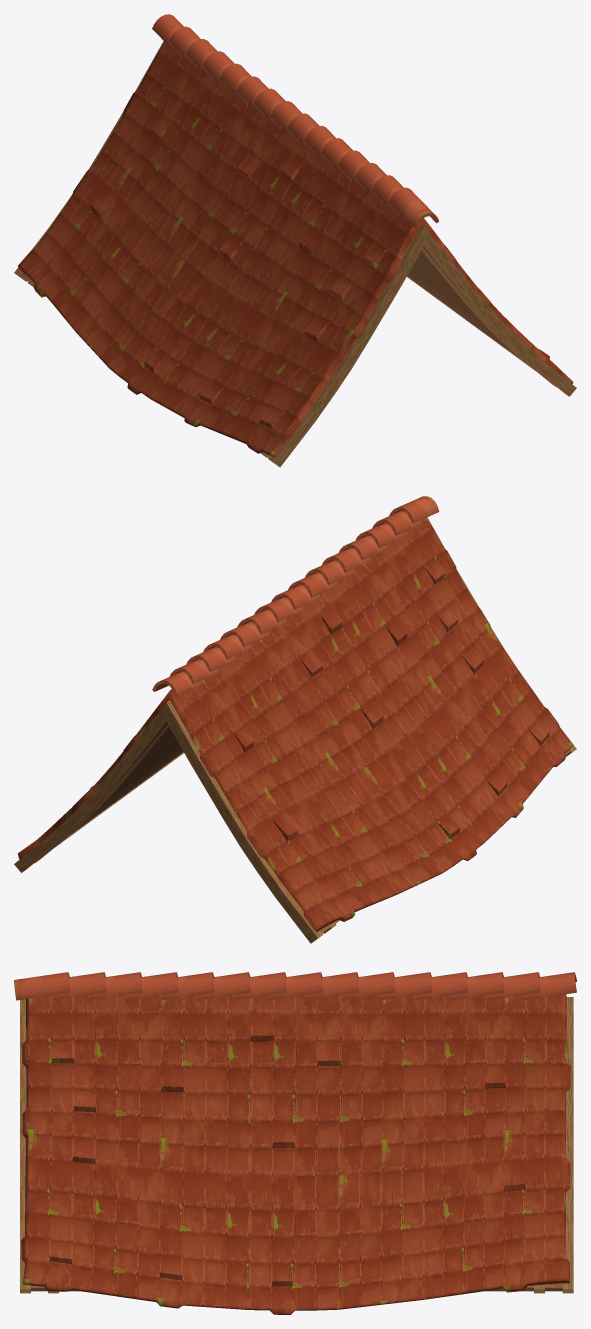
Rendered from Roof_FlatTiles_6x10.gltf.
3 renders of one model, top to bottom at view 1: azimuth 30°, elevation 25°; view 2: azimuth 150°, elevation 25°; view 3: azimuth 270°, elevation 25°, orthographic. The views are drawn at different scales.
Parts seen in each view (by area): view 1: Roof_FlatTiles_6x10; view 2: Roof_FlatTiles_6x10; view 3: Roof_FlatTiles_6x10.
Boxes of the visible parts, x1,y1,x2,y2 form: Roof_FlatTiles_6x10: (14, 14, 576, 467); Roof_FlatTiles_6x10: (14, 496, 576, 943); Roof_FlatTiles_6x10: (14, 972, 576, 1314).
Size of the model in its own units: 8.89 by 5.87 by 11.85.
3 materials, 3 textured.
